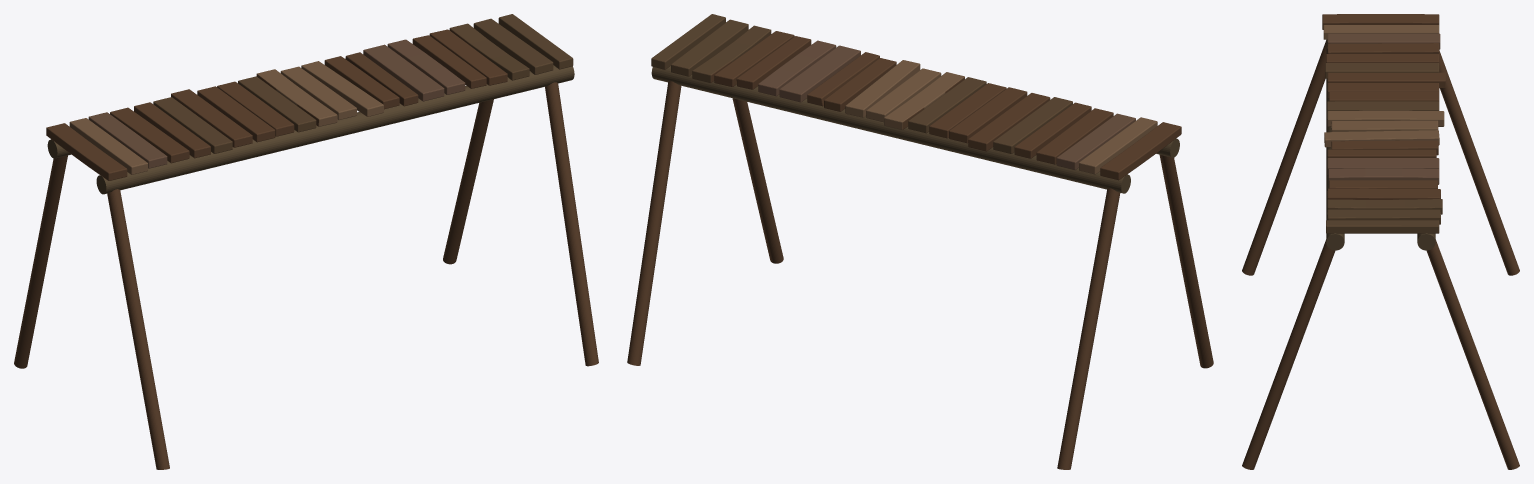
The model's file is Bridge(NoGuard).fbx.
3 views of the same model, side by side, from view 1: azimuth 30°, elevation 25°; view 2: azimuth 150°, elevation 25°; view 3: azimuth 270°, elevation 25° (orthographic). The views are drawn at different scales.
Visible parts, largest first — view 1: Planks, Cylinder.001, Cylinder; view 2: Planks, Cylinder.001, Cylinder; view 3: Planks, Cylinder.001, Cylinder.
Part boxes in pixels (x1,y1,x2,y2): Planks: (46,14,573,180); Cylinder.001: (14,82,598,469); Cylinder: (47,65,574,194); Planks: (651,14,1181,180); Cylinder.001: (627,81,1213,469); Cylinder: (651,66,1179,193); Planks: (1322,14,1445,233); Cylinder.001: (1242,40,1519,469); Cylinder: (1326,39,1435,250).
Bounding box in the file's own units: 770 × 428 × 424.
